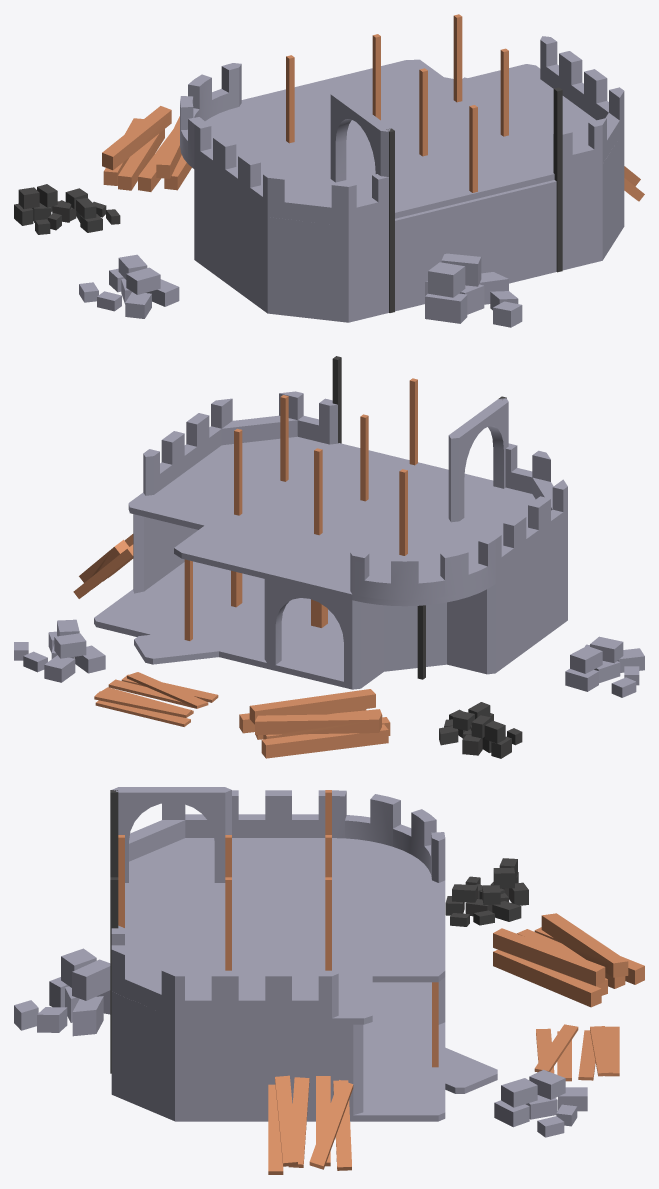
Rendered from HotelVille_construct.fbx.
3 renders of one model, top to bottom at view 1: azimuth 30°, elevation 25°; view 2: azimuth 150°, elevation 25°; view 3: azimuth 270°, elevation 25°, orthographic. The views are drawn at different scales.
Parts seen in each view (by area): view 1: floor_square_203, wall_cornerDiagonal_143, wall_straight_149, floor_square_172, wall_cornerDiagonal_142, battlement_cornerDiagonal_182, debris_wood_249, debris_bricks_255, wall_straight_147, floor_square_169, battlement_cornerDiagonal_181, debris_bricks_252 (+17 smaller); view 2: floor_square_203, floor_square_172, wall_cornerDiagonal_144, debris_wood_249, floor_square_169, battlement_cornerRound%_184, floor_square_153, battlement_cornerDiagonal_181, wall_straight_147, debris_wood_248, wall_archwaySingle_209, floor_square_155 (+25 smaller); view 3: floor_square_203, wall_straight_148, wall_cornerDiagonal_142, floor_square_172, debris_wood_249, debris_wood_250, debris_bricks_255, battlement_cornerRound%_184, battlement_cornerDiagonal_181, battlement_straight_188, floor_square_169, floor_square_171 (+19 smaller).
Part boxes in pixels (x1,y1,x2,y2): floor_square_203: (295,94,554,218); wall_cornerDiagonal_143: (244,206,388,322); wall_straight_149: (395,180,556,311); floor_square_172: (229,59,469,141); wall_cornerDiagonal_142: (562,136,624,268); battlement_cornerDiagonal_182: (244,157,388,231); debris_wood_249: (102,106,191,191); debris_bricks_255: (425,253,522,327); wall_straight_147: (194,169,244,295); floor_square_169: (439,64,586,132); battlement_cornerDiagonal_181: (553,72,624,178); debris_bricks_252: (79,254,179,318); floor_square_203: (224,443,498,556); floor_square_172: (174,512,408,599); wall_cornerDiagonal_144: (352,584,495,689); debris_wood_249: (239,689,390,758); floor_square_169: (128,461,284,529); battlement_cornerRound%_184: (350,536,495,605); floor_square_153: (94,582,235,642); battlement_cornerDiagonal_181: (193,391,337,458); wall_straight_147: (495,548,544,672); debris_wood_248: (94,672,218,726); wall_archwaySingle_209: (448,398,508,522); floor_square_155: (182,603,321,668); floor_square_203: (125,877,344,974); wall_straight_148: (193,1024,363,1121); wall_cornerDiagonal_142: (111,998,225,1121); floor_square_172: (332,878,445,982); debris_wood_249: (493,913,644,1007); debris_wood_250: (268,1075,353,1174); debris_bricks_255: (14,948,110,1036); battlement_cornerRound%_184: (332,790,445,882); battlement_cornerDiagonal_181: (111,925,230,1024); battlement_straight_188: (219,970,338,1024); floor_square_169: (219,967,372,1024); floor_square_171: (232,838,338,882).
Size of the model in its own units: 63.84 by 22.38 by 59.11.
